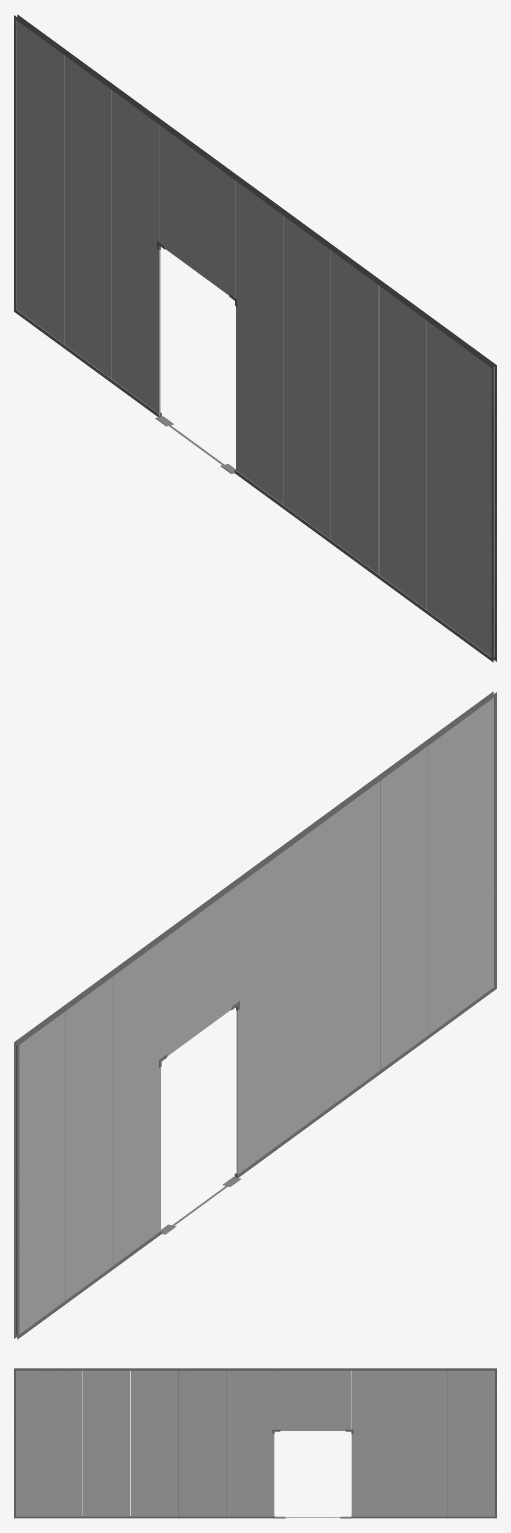
File: SM_StoreFront_Glass_1300.fbx
The picture shows the model from 3 angles, top to bottom: view 1: azimuth 30°, elevation 25°; view 2: azimuth 150°, elevation 25°; view 3: azimuth 270°, elevation 25°; orthographic projection. The views are drawn at different scales.
Visible parts, largest first — view 1: SM_StoreFront_Glass_1300_LOD0; view 2: SM_StoreFront_Glass_1300_LOD0; view 3: SM_StoreFront_Glass_1300_LOD0.
Boxes of the visible parts, <box> form: SM_StoreFront_Glass_1300_LOD0: <box>14,14,496,662</box>; SM_StoreFront_Glass_1300_LOD0: <box>14,691,496,1339</box>; SM_StoreFront_Glass_1300_LOD0: <box>14,1368,496,1518</box>.
Bounding box in the file's own units: 12.27 × 1260 × 430.
